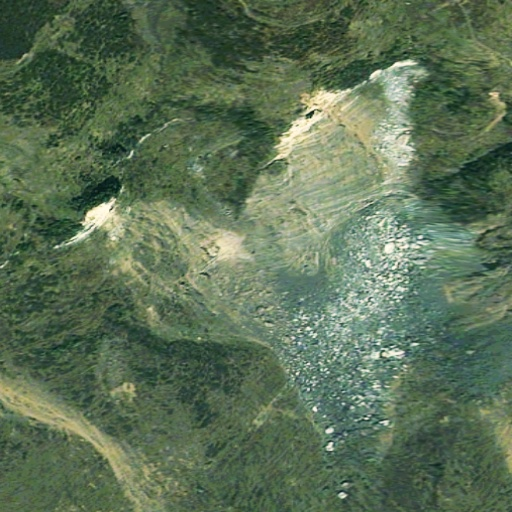landslide: (196, 88, 401, 265)
